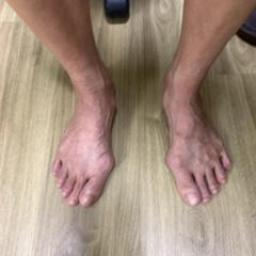Dorsal View -Both Feet-: (33, 52, 250, 227)
